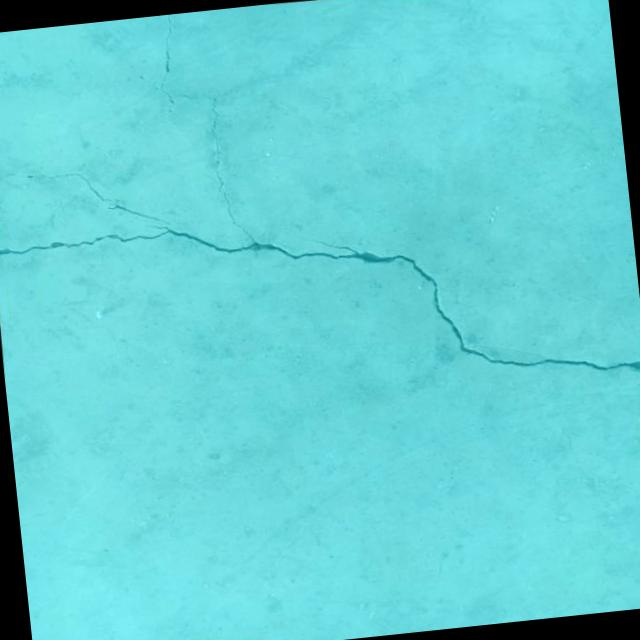crack: (0, 45, 640, 440), (0, 161, 119, 214), (147, 14, 180, 105), (106, 199, 169, 231)
